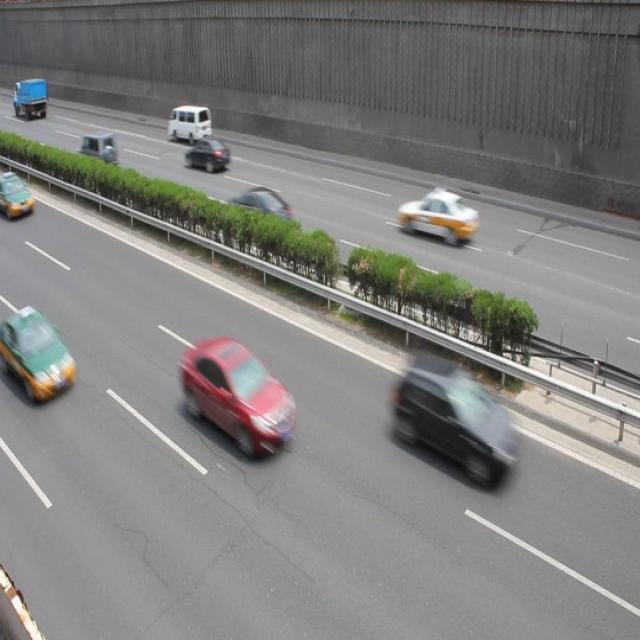car: (392, 348, 520, 485), (178, 337, 294, 455), (1, 306, 76, 407), (396, 186, 479, 245), (222, 182, 294, 240), (74, 134, 119, 175), (1, 169, 36, 220), (183, 136, 231, 172)
truck: (167, 108, 211, 140)
